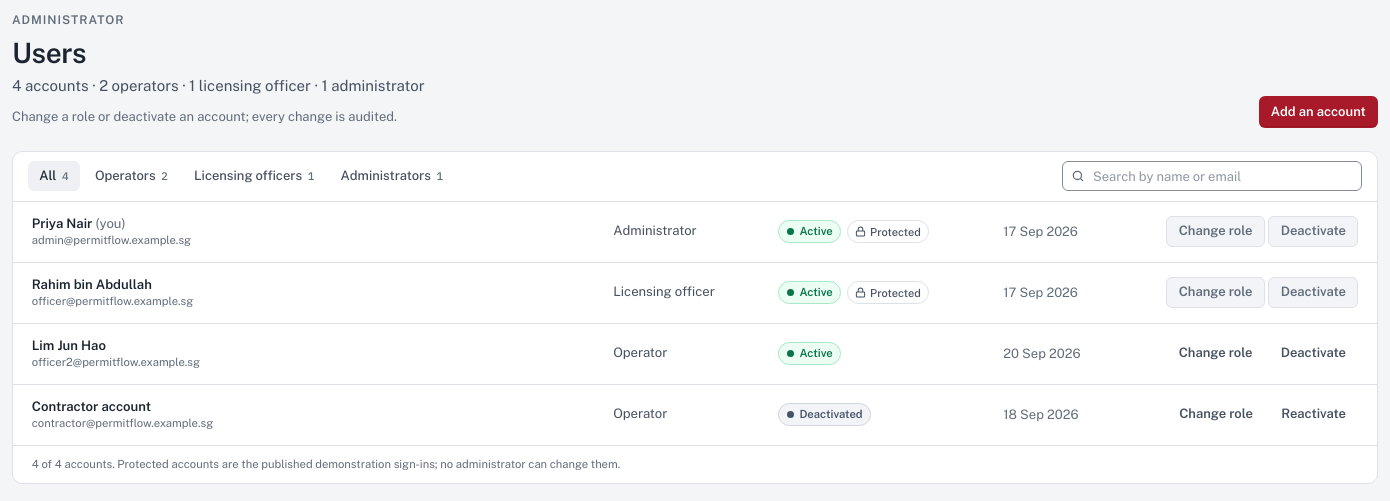
Test case: admin users (S-41, US-073) › disables the own row and protected rows with the reason, and filters by role and search
This screenshot has width=1390, height=501.
Expected: the text "4 accounts · 2 operators · 1 licensing officer · 1 administrator" is shown, [12,75,424,97]
Expected: the text "Protected" in the row of "Rahim bin Abdullah" is shown, [870,286,921,298]
Click the button "Licensing officers 1" at (254,176), box [183,161,326,191]
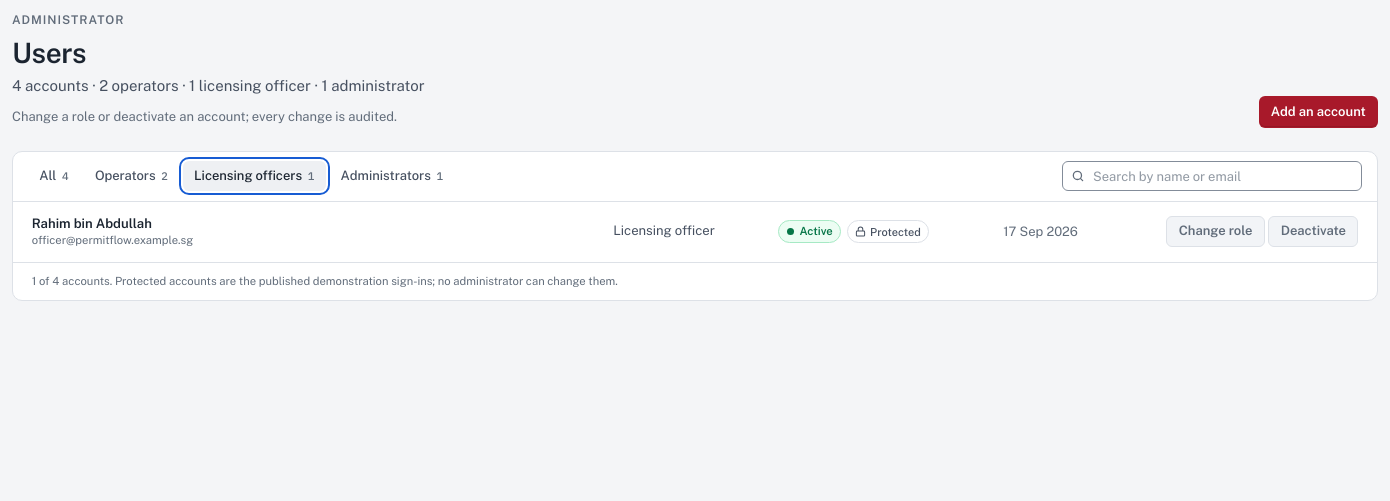
Result: the text "Lim Jun Hao" is gone
Click the button "All 4" at (54,176), box [28,161,80,191]
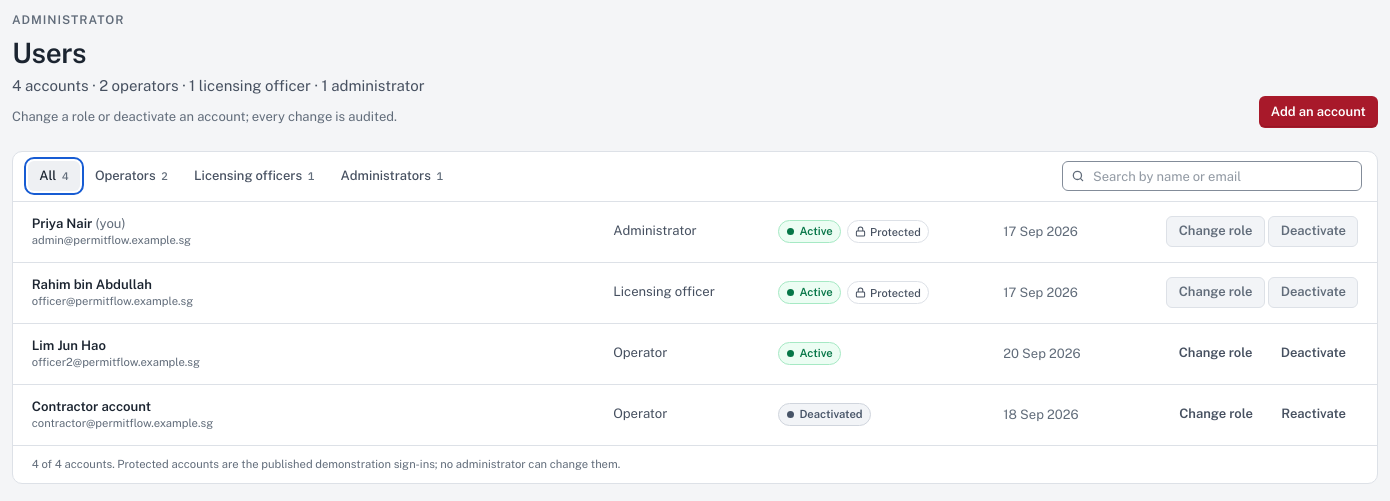
Type "contractor" into the search field labelled "Search by name or email" at (1212,176), box [1062,161,1362,191]
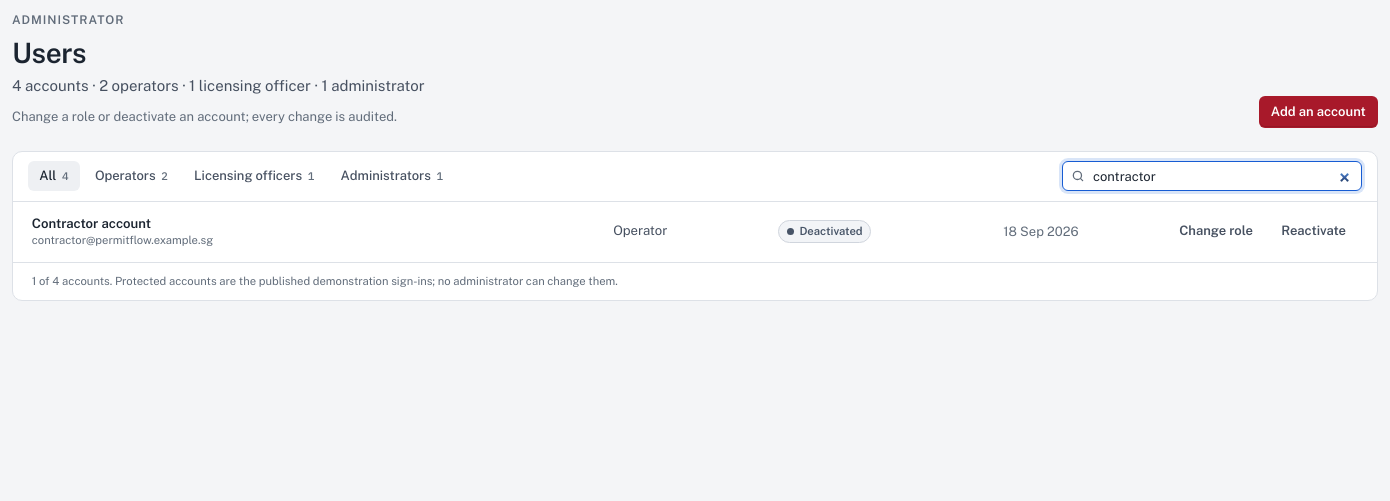
Result: the text "Contractor account" is shown at [32,216,151,231]
Result: the text "Lim Jun Hao" is gone
Replace the text in the search field named "Search by name or email" with "zzz" at (1212,176), box [1062,161,1362,191]
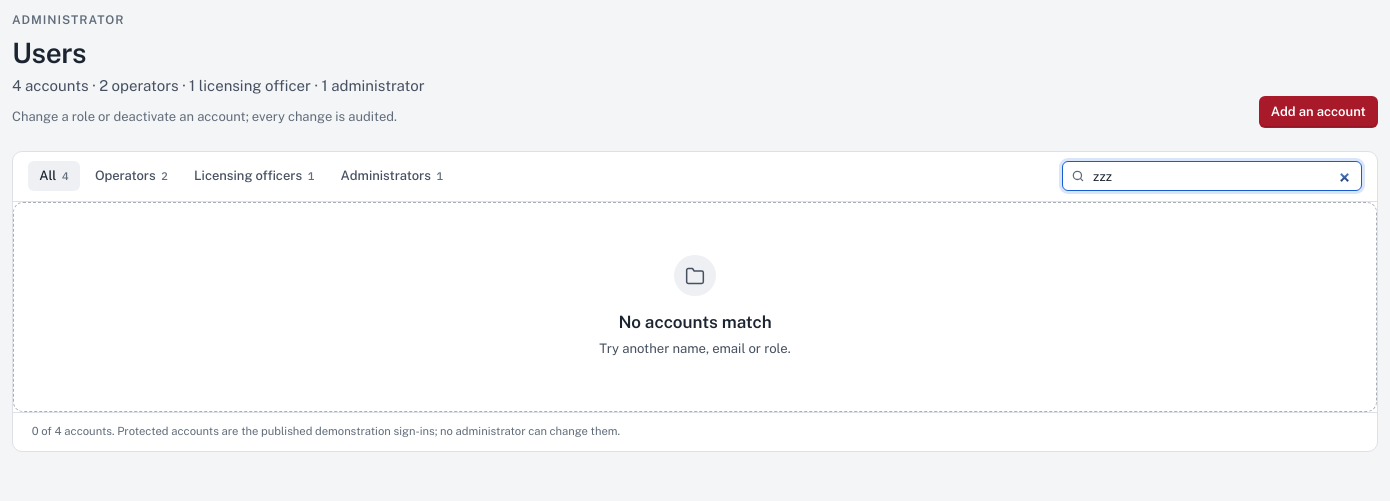
Result: the text "No accounts match" is shown at [618,311,772,334]
